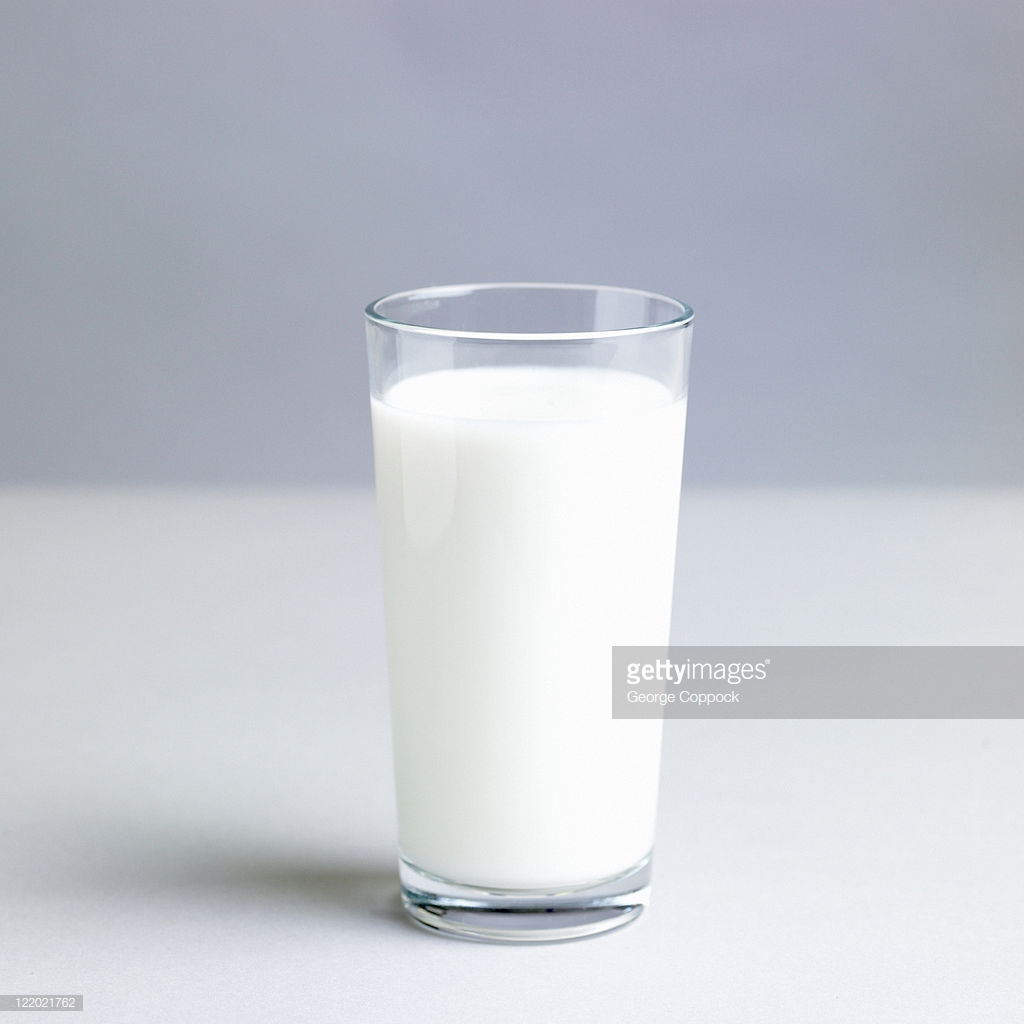glass of milk: (391, 337, 632, 940)
